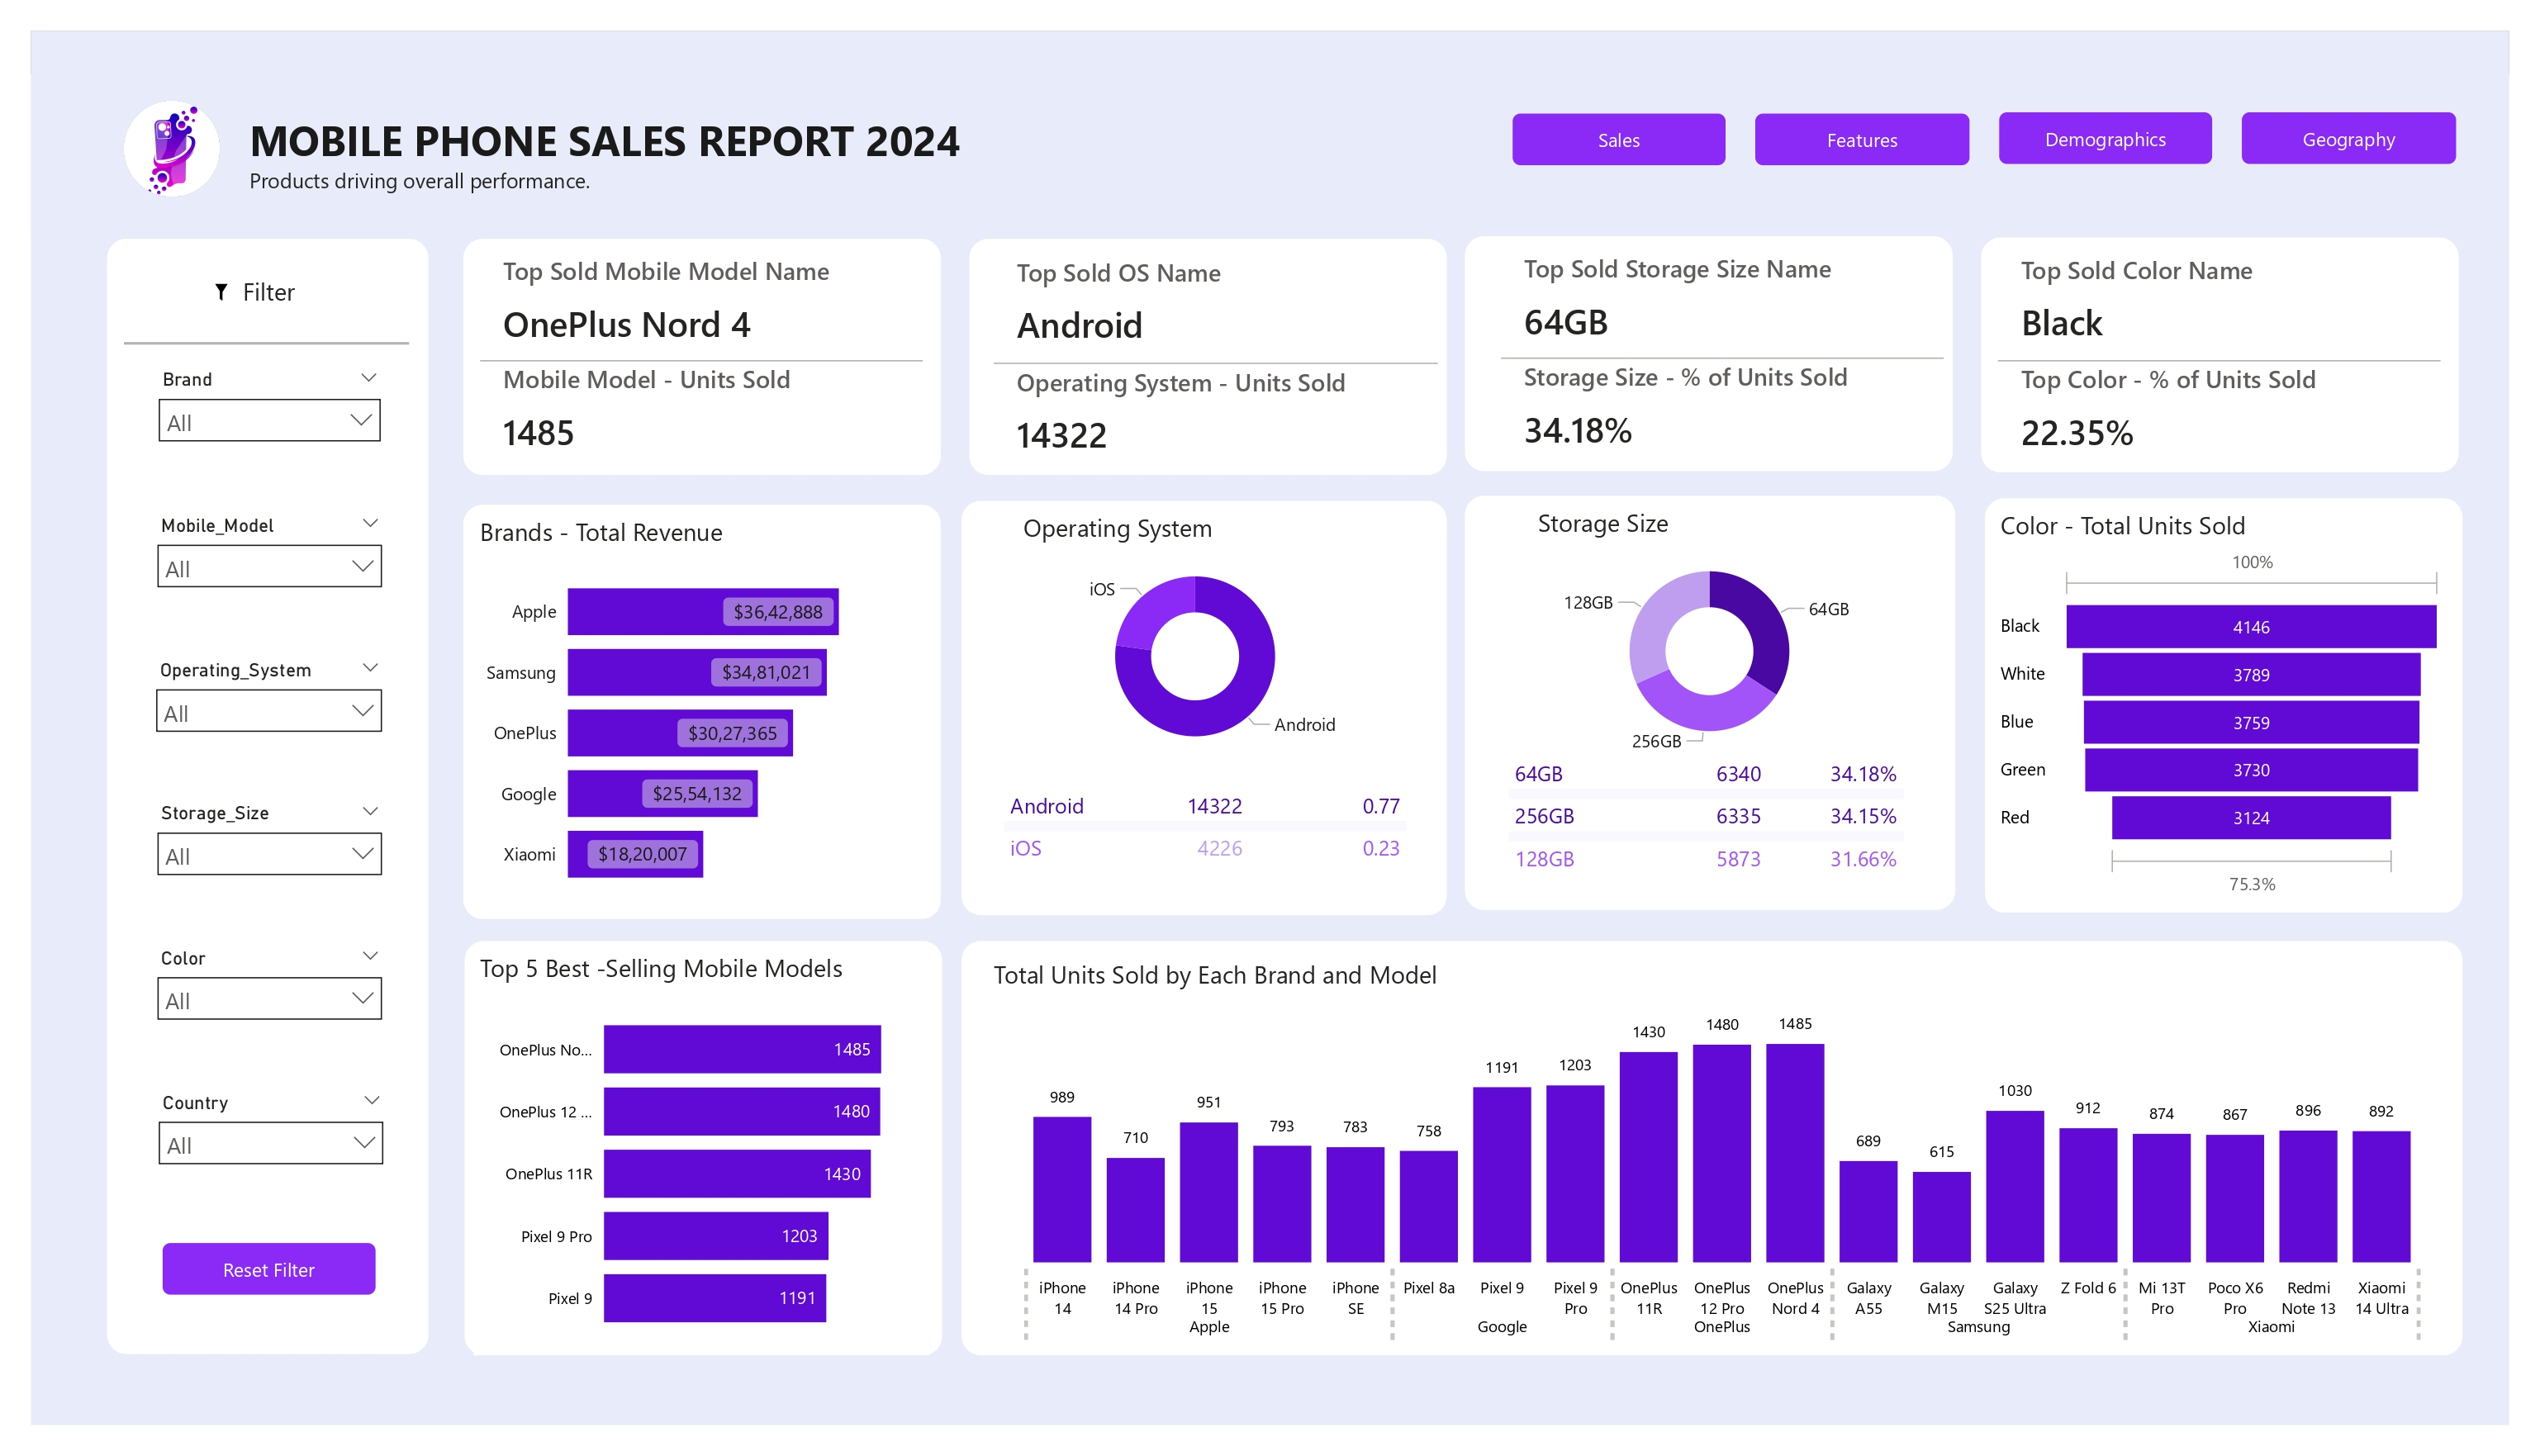

The dashboard page shown, as its layout file describes it:
{"tool":"powerbi","page":{"name":"Sales","canvas":[1920,1080],"ordinal":0},"visuals":[{"type":"textbox","title":"Filter","box":[334.7,161.3,370.7,168],"z":1000},{"type":"textbox","title":"Filter","box":[726.7,161.3,370.7,168],"z":2000},{"type":"textbox","title":"Filter","box":[1118.7,161.3,370.7,168],"z":3000},{"type":"textbox","box":[164,57,616,76],"z":4000,"group":"g1"},{"type":"textbox","title":"Filter","box":[1510.7,160,377.3,168],"z":4000},{"type":"textbox","title":"Filter","box":[824,728,532,298.7],"z":5000},{"type":"textbox","title":"Filter","box":[1384,728,508,298.7],"z":6000},{"type":"textbox","title":"Filter","box":[334.7,726.7,460,298.7],"z":7000},{"type":"textbox","title":"Filter","box":[1130.7,352,757.3,353.3],"z":8000},{"type":"textbox","title":"Filter","box":[334.7,352,762.7,353.3],"z":9000},{"type":"textbox","title":"Filter","box":[58.7,161.3,249.3,864],"z":10000},{"type":"funnel","title":"Total Revenue","fields":{"Category":["Fact_Sales.Transaction_Date.Variation.Date Hierarchy.Quarter"],"Y":["ToggleTable.Revenue_Quarter"]},"box":[357.3,370.7,733.3,314.7],"z":11000},{"type":"slicer","fields":{"Values":["Dim_Products.Brand"]},"box":[88.5,257.2,192.9,71.8],"z":12000},{"type":"slicer","fields":{"Values":["Dim_Products.Operating_System"]},"box":[87.4,481.7,194.2,70.5],"z":13000},{"type":"slicer","fields":{"Values":["Dim_Products.Storage_Size"]},"box":[87.9,593.3,193.7,70.5],"z":14000},{"type":"slicer","fields":{"Values":["Dim_Products.Color"]},"box":[87.9,705,193.7,70.5],"z":15000},{"type":"slicer","fields":{"Values":["Dim_Products.Mobile_Model"]},"box":[87.9,370.1,193.7,70.5],"z":16000},{"type":"slicer","fields":{"Values":["Dim_Locations.Country"]},"box":[88.5,816.6,194.2,70],"z":17000},{"type":"actionButton","box":[102.4,939,164.9,39.9],"z":20000},{"type":"cardVisual","fields":{"Data":["Fact_Sales.Total Revenue","Fact_Sales.Total Units Sold","Fact_Sales.Average Price Per Unit","Fact_Sales.Total Transactions"]},"box":[334.7,168,1553.3,161.3],"z":22000},{"type":"clusteredBarChart","title":"Sales Channel - Total Revenue & Total Units Sold","fields":{"Category":["Fact_Sales.Sales_Channel"],"Y":["Sum(Fact_Sales.Total_Revenue)","Sum(Fact_Sales.Units_Sold)"]},"box":[348,740,432,302.7],"z":23000},{"type":"lineChart","title":"Total Revenue","fields":{"Category":["Fact_Sales.Transaction_Date.Variation.Date Hierarchy.Month"],"Y":["ToggleTable.Revenue_Month"]},"box":[357.3,370.7,733.3,334.7],"z":24000},{"type":"columnChart","title":"Total Units Sold","fields":{"Category":["Fact_Sales.Transaction_Date.Variation.Date Hierarchy.Quarter"],"Y":["ToggleTable.UnitsSold_Quarter"]},"box":[1148,370.7,725.3,324],"z":25000},{"type":"lineChart","title":"Total Units Sold","fields":{"Category":["Fact_Sales.Transaction_Date.Variation.Date Hierarchy.Month"],"Y":["ToggleTable.UnitsSold_Month"]},"box":[1148,370.7,725.3,334.7],"z":26000},{"type":"slicer","fields":{"Values":["ToggleTable.ViewBy"]},"box":[1772,369.3,101.3,70.7],"z":27000},{"type":"clusteredBarChart","title":"Payment Type - Total Revenue & Total Units Sold","fields":{"Y":["Sum(Fact_Sales.Total_Revenue)","Sum(Fact_Sales.Units_Sold)"],"Category":["Fact_Sales.Payment_Type"]},"box":[838.7,740,500,296],"z":28000},{"type":"clusteredBarChart","title":"Country - Total Revenue & Total Units Sold","fields":{"Y":["Sum(Fact_Sales.Total_Revenue)","Sum(Fact_Sales.Units_Sold)"],"Category":["Dim_Locations.Country"]},"box":[1393.3,740,480,282.7],"z":29000},{"type":"shape","box":[72,166.7,221.3,150.7],"z":30000},{"type":"slicer","fields":{"Values":["ToggleTable.ViewBy"]},"box":[989.3,369.3,101.3,70.7],"z":31000},{"type":"group","id":"g1","title":"Group 1","box":[164,57,616,76],"z":32000},{"type":"PBI_CV_25997FEB_F466_44FA_B562_AC4063283C4C","fields":{"axis":["Fact_Sales.Transaction_Date.Variation.Date Hierarchy.Month"],"measure":["Sum(Fact_Sales.Total_Revenue)"]},"box":[528.2,241.7,177.9,86.9],"z":33000},{"type":"PBI_CV_25997FEB_F466_44FA_B562_AC4063283C4C","fields":{"axis":["Fact_Sales.Transaction_Date.Variation.Date Hierarchy.Month"],"measure":["Sum(Fact_Sales.Units_Sold)"]},"box":[918.4,241.7,178.6,87.3],"z":34000},{"type":"PBI_CV_25997FEB_F466_44FA_B562_AC4063283C4C","fields":{"axis":["Fact_Sales.Transaction_Date.Variation.Date Hierarchy.Month"],"measure":["Sum(Fact_Sales.Price)"]},"box":[1303.7,241.7,178.6,87.3],"z":35000},{"type":"PBI_CV_25997FEB_F466_44FA_B562_AC4063283C4C","fields":{"axis":["Fact_Sales.Transaction_Date.Variation.Date Hierarchy.Month"],"measure":["Count(Fact_Sales.Transaction_ID)"]},"box":[1696,242,177.9,86.9],"z":36000},{"type":"actionButton","box":[1524.9,62.7,165.3,40],"z":37000},{"type":"actionButton","box":[1148,64,165.3,40],"z":38000},{"type":"actionButton","box":[1713.3,62.7,165.3,40],"z":39000},{"type":"actionButton","box":[1336.4,64,165.3,40],"z":40000},{"type":"image","box":[0,49.3,217.3,84],"z":40001},{"type":"image","box":[109.3,189.3,76,26.7],"z":40002}]}

Visuals, with their boxes on the page's 1920x1080 design canvas (x1, y1, x2, y2). These are canvas units, not pixel positions in the 2540x1456 screenshot, which may show the page scaled, cropped or inside an application window:
"Filter" textbox: l=335, t=161, r=705, b=329
"Filter" textbox: l=727, t=161, r=1097, b=329
"Filter" textbox: l=1119, t=161, r=1489, b=329
textbox: l=164, t=57, r=780, b=133
"Filter" textbox: l=1511, t=160, r=1888, b=328
"Filter" textbox: l=824, t=728, r=1356, b=1027
"Filter" textbox: l=1384, t=728, r=1892, b=1027
"Filter" textbox: l=335, t=727, r=795, b=1025
"Filter" textbox: l=1131, t=352, r=1888, b=705
"Filter" textbox: l=335, t=352, r=1097, b=705
"Filter" textbox: l=59, t=161, r=308, b=1025
"Total Revenue" funnel: l=357, t=371, r=1091, b=685
slicer - Dim_Products.Brand: l=88, t=257, r=281, b=329
slicer - Dim_Products.Operating_System: l=87, t=482, r=282, b=552
slicer - Dim_Products.Storage_Size: l=88, t=593, r=282, b=664
slicer - Dim_Products.Color: l=88, t=705, r=282, b=776
slicer - Dim_Products.Mobile_Model: l=88, t=370, r=282, b=441
slicer - Dim_Locations.Country: l=88, t=817, r=283, b=887
actionButton: l=102, t=939, r=267, b=979
cardVisual - Fact_Sales.Total Revenue x Fact_Sales.Total Units Sold: l=335, t=168, r=1888, b=329
"Sales Channel - Total Revenue & Total Units Sold" clusteredBarChart: l=348, t=740, r=780, b=1043
"Total Revenue" lineChart: l=357, t=371, r=1091, b=705
"Total Units Sold" columnChart: l=1148, t=371, r=1873, b=695
"Total Units Sold" lineChart: l=1148, t=371, r=1873, b=705
slicer - ToggleTable.ViewBy: l=1772, t=369, r=1873, b=440
"Payment Type - Total Revenue & Total Units Sold" clusteredBarChart: l=839, t=740, r=1339, b=1036
"Country - Total Revenue & Total Units Sold" clusteredBarChart: l=1393, t=740, r=1873, b=1023
shape: l=72, t=167, r=293, b=317
slicer - ToggleTable.ViewBy: l=989, t=369, r=1091, b=440
"Group 1" group: l=164, t=57, r=780, b=133
PBI_CV_25997FEB_F466_44FA_B562_AC4063283C4C - Fact_Sales.Transaction_Date.Variation.Date Hierarchy.Month x Sum(Fact_Sales.Total_Revenue): l=528, t=242, r=706, b=329
PBI_CV_25997FEB_F466_44FA_B562_AC4063283C4C - Fact_Sales.Transaction_Date.Variation.Date Hierarchy.Month x Sum(Fact_Sales.Units_Sold): l=918, t=242, r=1097, b=329
PBI_CV_25997FEB_F466_44FA_B562_AC4063283C4C - Fact_Sales.Transaction_Date.Variation.Date Hierarchy.Month x Sum(Fact_Sales.Price): l=1304, t=242, r=1482, b=329
PBI_CV_25997FEB_F466_44FA_B562_AC4063283C4C - Fact_Sales.Transaction_Date.Variation.Date Hierarchy.Month x Count(Fact_Sales.Transaction_ID): l=1696, t=242, r=1874, b=329
actionButton: l=1525, t=63, r=1690, b=103
actionButton: l=1148, t=64, r=1313, b=104
actionButton: l=1713, t=63, r=1879, b=103
actionButton: l=1336, t=64, r=1502, b=104
image: l=0, t=49, r=217, b=133
image: l=109, t=189, r=185, b=216
